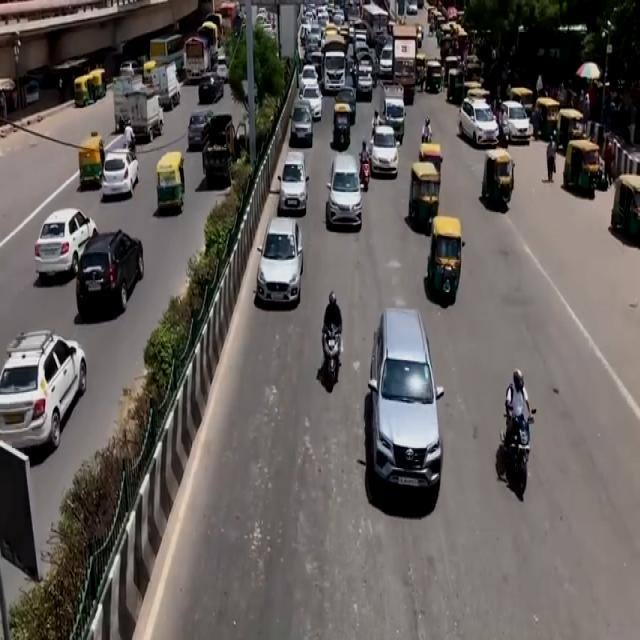MOTORCYCLE: (509, 409, 532, 502), (326, 327, 344, 394)
SUV: (370, 310, 440, 498)
TRUCK: (182, 38, 210, 81)
